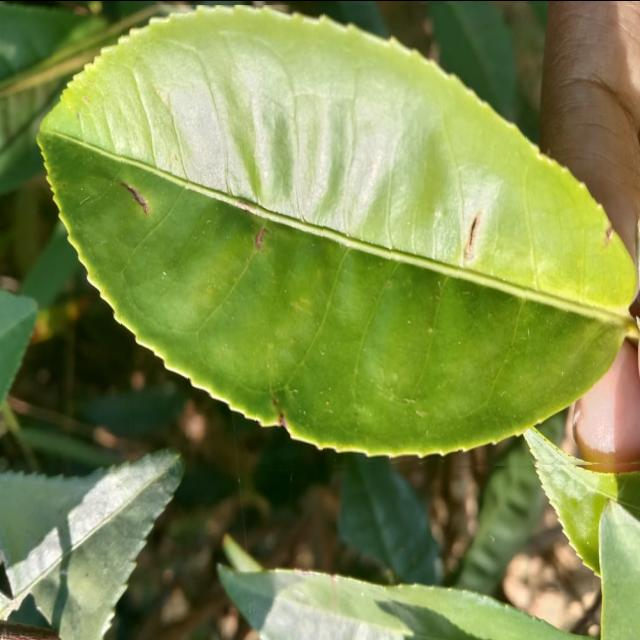Category B(2-4 days): (19, 5, 640, 472)
